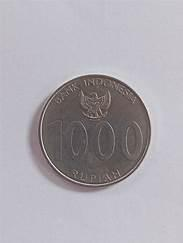coin_1000_e2010: (36, 72, 153, 190)
